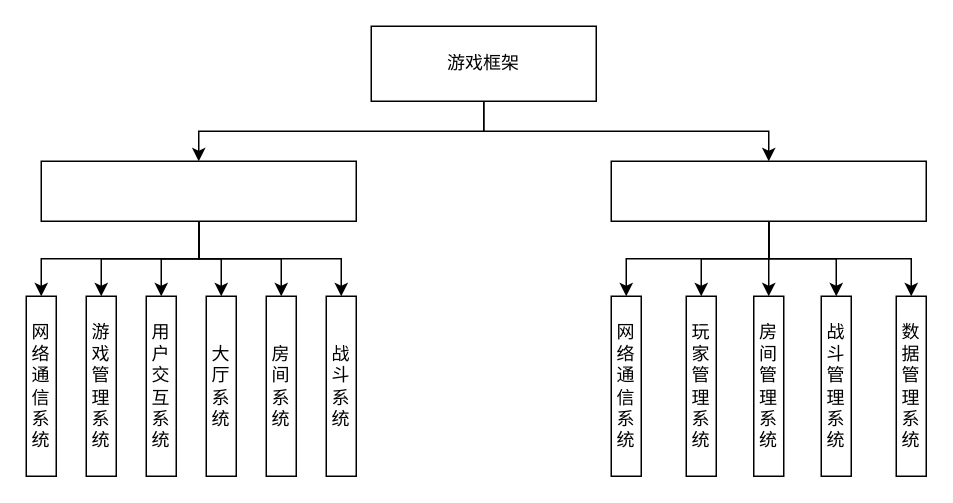
Image size: 953x503. Some labels were removed from this diagram. The centre of each missing label's shape, as x and y in pixels:
"客户端" belongs at (x=198, y=190).
"服务端" belongs at (x=768, y=190).
